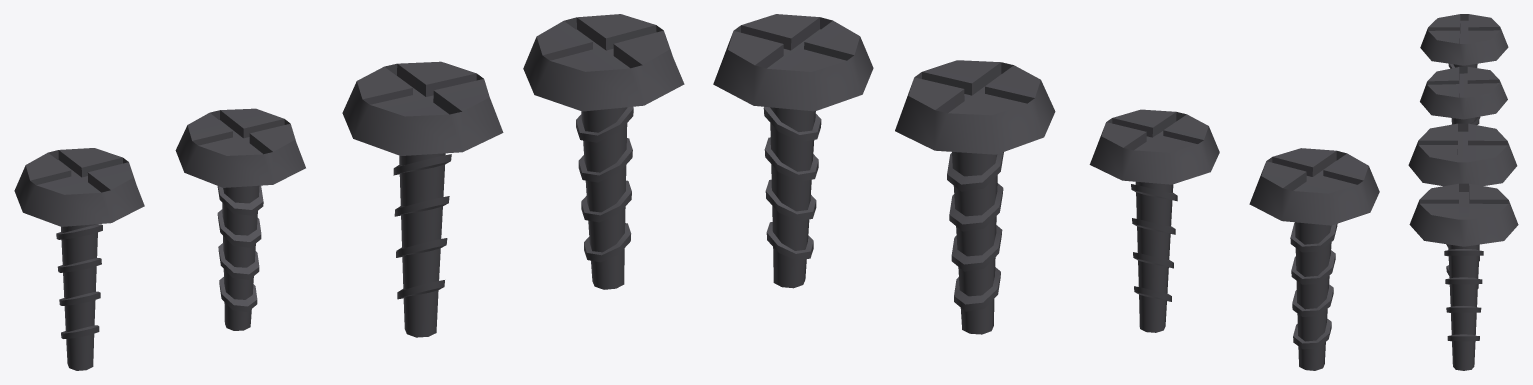
File: Self_tapping_screws.fbx
3 renders of one model, left to right at view 1: azimuth 30°, elevation 25°; view 2: azimuth 150°, elevation 25°; view 3: azimuth 270°, elevation 25°, orthographic. The views are drawn at different scales.
Visible parts, largest first — view 1: Self_tapping_screws; view 2: Self_tapping_screws; view 3: Self_tapping_screws.
Part boxes in pixels (x1,y1,x2,y2): Self_tapping_screws: (14, 14, 684, 370); Self_tapping_screws: (713, 14, 1379, 370); Self_tapping_screws: (1408, 14, 1518, 370).
Size of the model in its own units: 21.53 by 4.66 by 7.72.
